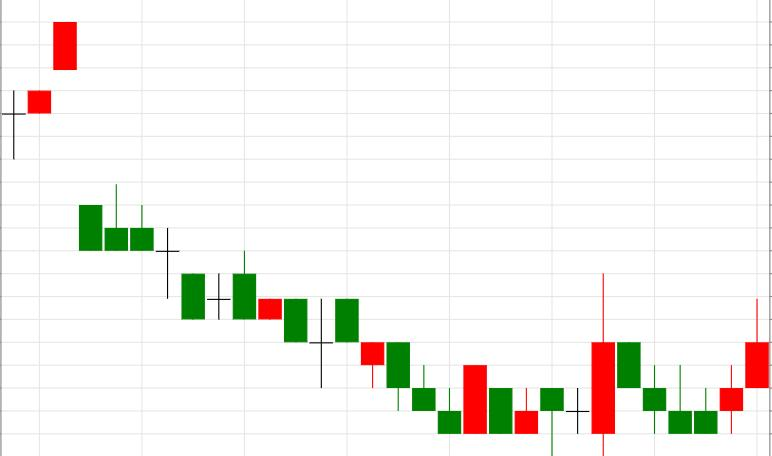bullish_engulfing_rise: (335, 299, 487, 434)
